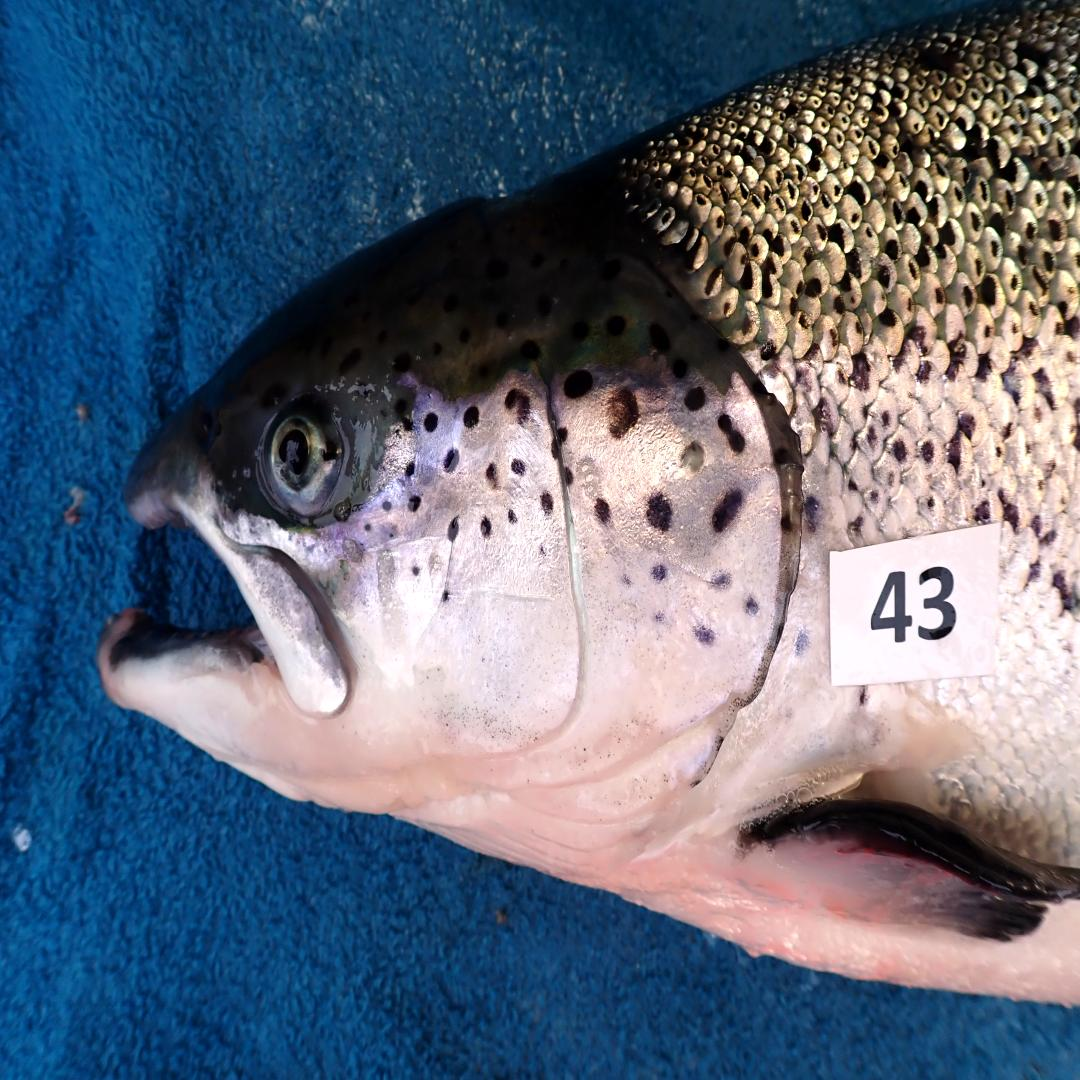roi: (351, 363, 791, 885)
